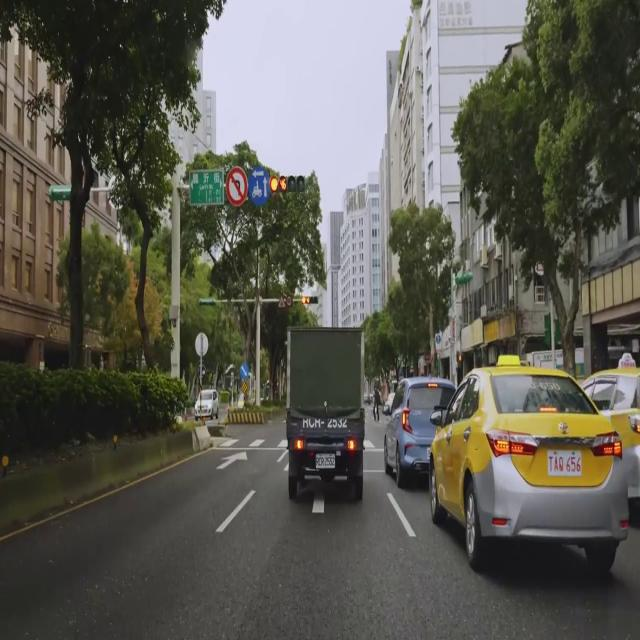red light: (269, 175, 306, 193), (300, 296, 318, 305)
